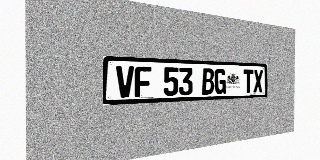3: (179, 67, 193, 95)
5: (164, 67, 178, 96)
B: (202, 68, 214, 95)
F: (135, 66, 151, 97)
G: (214, 69, 226, 94)
T: (243, 69, 253, 93)
V: (116, 66, 134, 98)
X: (253, 70, 263, 93)
